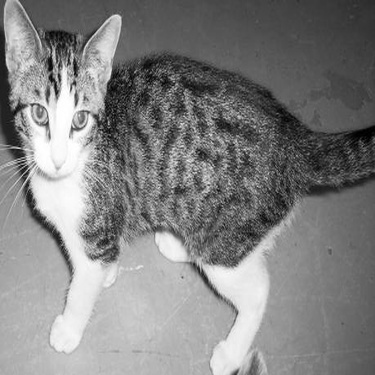cat: (11, 6, 353, 367)
